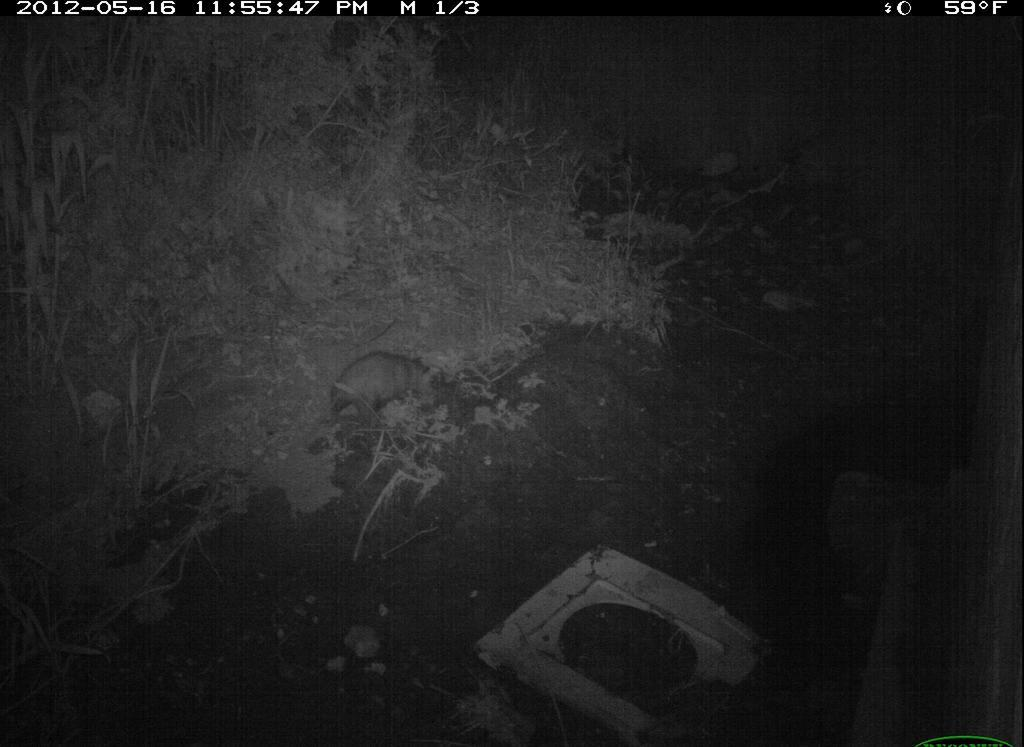opossum: (322, 321, 443, 431)
